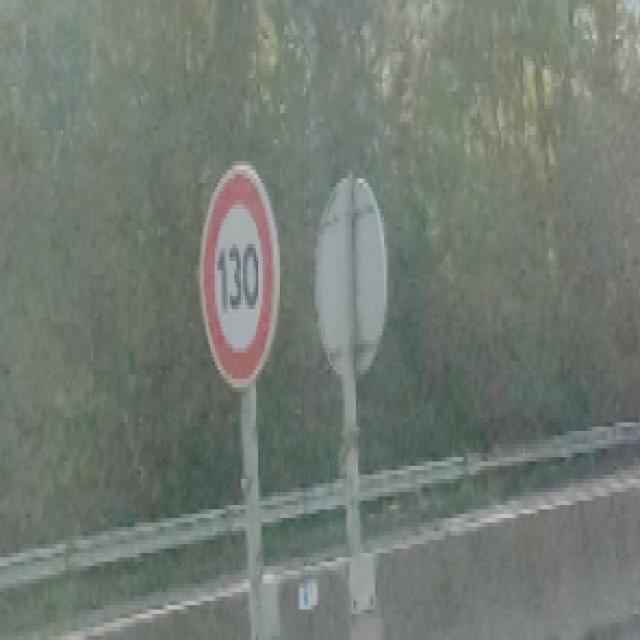speed_130: (198, 161, 280, 386)
